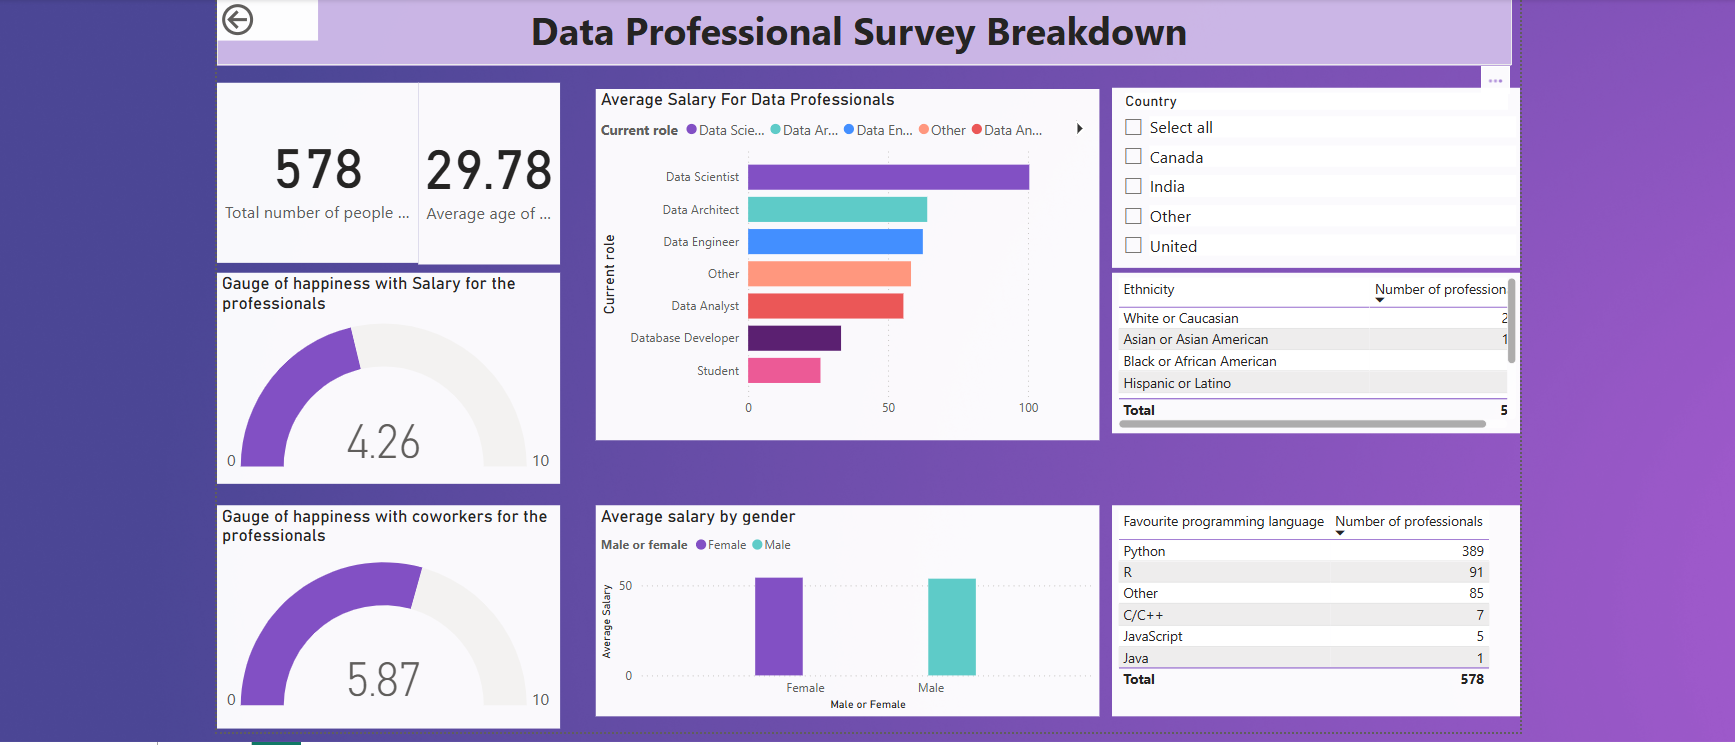

What the dashboard file says about the page in this screenshot:
{"tool":"powerbi","page":{"name":"Page 1","canvas":[1280,720],"ordinal":0},"visuals":[{"type":"textbox","box":[0,0,1270.7,65.4],"z":0},{"type":"card","fields":{"Values":["Count(Data Professional Survey.Unique ID)"]},"box":[0,81.7,197.5,177.1],"z":1000},{"type":"card","fields":{"Values":["Avg(Data Professional Survey.Q10 - Current Age)"]},"box":[197.5,81.7,138.9,178.4],"z":2000},{"type":"barChart","title":"Average Salary For Data Professionals","fields":{"Category":["Data Professional Survey.Q1 - Which Title Best Fits your Current Role?.1.1","Data Professional Survey.Q4 - What Industry do you work in?.1"],"Y":["Avg(Data Professional Survey.average salary)"],"Series":["Data Professional Survey.Q1 - Which Title Best Fits your Current Role?.1.1"]},"box":[371.8,88.5,494.4,344.6],"z":3000},{"type":"tableEx","fields":{"Values":["Data Professional Survey.Q5 - Favorite Programming Language.1","Data Professional Survey.Unique ID"]},"box":[878.5,497.1,401.8,207],"z":4000},{"type":"actionButton","box":[0,0,99.4,40.5],"z":5000},{"type":"slicer","fields":{"Values":["Data Professional Survey.Q11 - Which Country do you live in?.1"]},"box":[878.2,87.2,401.8,177.1],"z":6000},{"type":"gauge","title":"Gauge of happiness with coworkers for the professionals","fields":{"Y":["Avg(Data Professional Survey.Q6 - How Happy are you in your Current Position with the following? (Coworkers))"],"MinValue":["Min(Data Professional Survey.Q6 - How Happy are you in your Current Position with the following? (Coworkers))1"],"MaxValue":["Max(Data Professional Survey.Q6 - How Happy are you in your Current Position with the following? (Coworkers))2"]},"box":[0,497.1,336.4,219.3],"z":7000},{"type":"gauge","title":"Gauge of happiness with Salary for the professionals","fields":{"Y":["Avg(Data Professional Survey.Q6 - How Happy are you in your Current Position with the following? (Salary))"],"MinValue":["Min(Data Professional Survey.Q6 - How Happy are you in your Current Position with the following? (Salary))"],"MaxValue":["Max(Data Professional Survey.Q6 - How Happy are you in your Current Position with the following? (Salary))"]},"box":[0,268.3,336.4,207],"z":8000},{"type":"clusteredColumnChart","title":"Average salary by gender","fields":{"Category":["Data Professional Survey.Q9 - Male/Female?"],"Y":["Avg(Data Professional Survey.average salary)"],"Series":["Data Professional Survey.Q9 - Male/Female?"]},"box":[371.8,497.1,494.4,207],"z":9000},{"type":"tableEx","fields":{"Values":["Data Professional Survey.Q13 - Ethnicity.1","Data Professional Survey.Unique ID"]},"box":[878.5,268.3,401.8,158],"z":10000}]}

Visuals, with their boxes in screenshot pixels (x1, y1, x2, y2):
textbox: {"left": 212, "top": 0, "right": 1510, "bottom": 62}
card - Count(Data Professional Survey.Unique ID): {"left": 212, "top": 79, "right": 414, "bottom": 260}
card - Avg(Data Professional Survey.Q10 - Current Age): {"left": 414, "top": 79, "right": 556, "bottom": 261}
"Average Salary For Data Professionals" barChart: {"left": 592, "top": 86, "right": 1097, "bottom": 438}
tableEx - Data Professional Survey.Q5 - Favorite Programming Language.1 x Data Professional Survey.Unique ID: {"left": 1109, "top": 503, "right": 1520, "bottom": 714}
actionButton: {"left": 212, "top": 0, "right": 314, "bottom": 37}
slicer - Data Professional Survey.Q11 - Which Country do you live in?.1: {"left": 1109, "top": 85, "right": 1519, "bottom": 265}
"Gauge of happiness with coworkers for the professionals" gauge: {"left": 212, "top": 503, "right": 556, "bottom": 727}
"Gauge of happiness with Salary for the professionals" gauge: {"left": 212, "top": 269, "right": 556, "bottom": 481}
"Average salary by gender" clusteredColumnChart: {"left": 592, "top": 503, "right": 1097, "bottom": 714}
tableEx - Data Professional Survey.Q13 - Ethnicity.1 x Data Professional Survey.Unique ID: {"left": 1109, "top": 269, "right": 1520, "bottom": 431}
